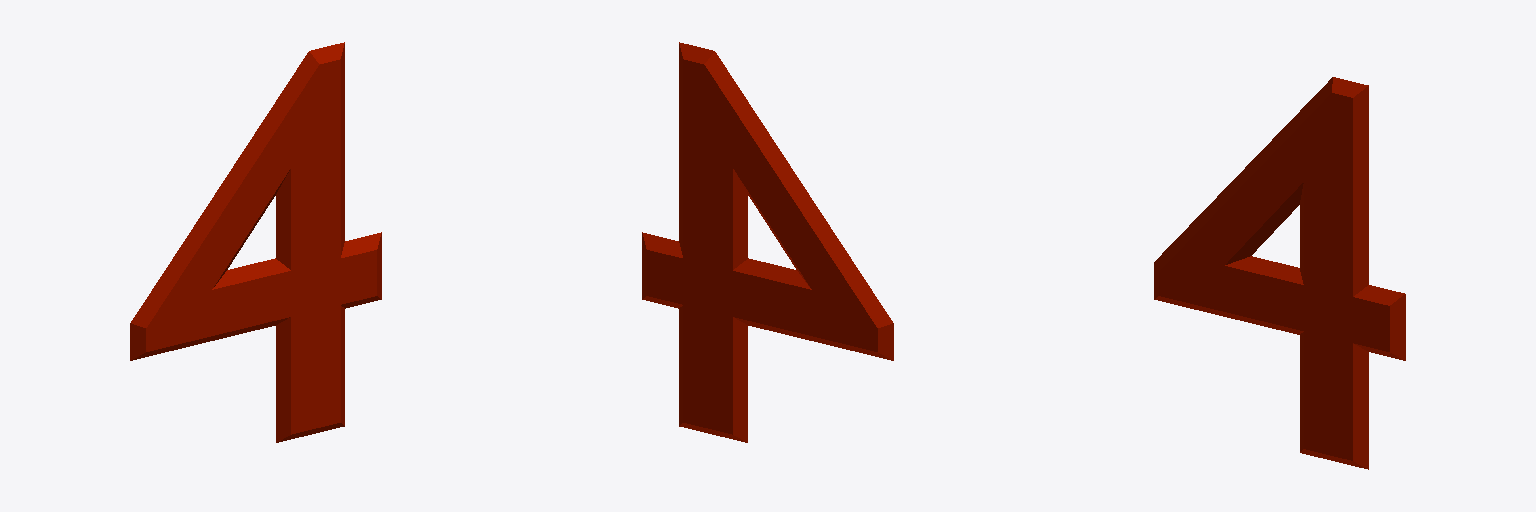
Rendered from four.obj.
The picture shows the model from 3 angles: view 1: azimuth 30°, elevation 25°; view 2: azimuth 150°, elevation 25°; view 3: azimuth 330°, elevation 25°; orthographic projection.
Parts seen in each view (by area): view 1: Text.004; view 2: Text.004; view 3: Text.004.
Boxes of the visible parts, x1=… form: Text.004: x1=130, y1=42, x2=381, y2=442; Text.004: x1=642, y1=42, x2=893, y2=442; Text.004: x1=1154, y1=77, x2=1405, y2=469.
Size of the model in its own units: 0.05 by 0.0731 by 0.004.